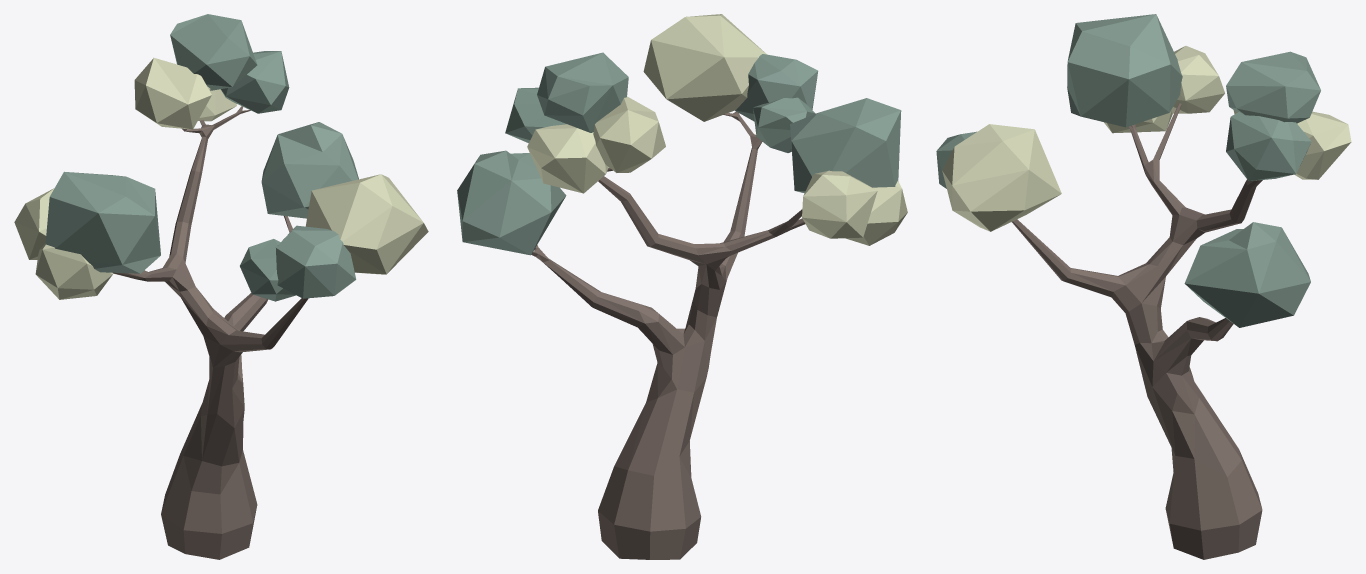
The model's file is low poly tree V1.fbx.
The picture shows the model from 3 angles, left to right: view 1: azimuth 30°, elevation 25°; view 2: azimuth 150°, elevation 25°; view 3: azimuth 270°, elevation 25°; orthographic projection. The views are drawn at different scales.
Visible parts, largest first — view 1: Three stump, Leaves 11, Leaves 2, Leaves 1, Leaves 3, Leaves 7, Leaves 5, Leaves 10, Leaves 4, Leaves 6, Leaves 9, Leaves 8; view 2: Three stump, Leaves 2, Leaves 1, Leaves 11, Leaves 3, Leaves 9, Leaves 8, Leaves 5, Leaves 7, Leaves 6, Leaves 10, Leaves 4; view 3: Three stump, Leaves 11, Leaves 1, Leaves 2, Leaves 3, Leaves 4, Leaves 9, Leaves 8, Leaves 10, Leaves 7.
Part boxes in pixels (x1=…): Three stump: x1=113, y1=106, x2=308, y2=559; Leaves 11: x1=45, y1=171, x2=160, y2=273; Leaves 2: x1=305, y1=174, x2=428, y2=274; Leaves 1: x1=261, y1=122, x2=358, y2=218; Leaves 3: x1=170, y1=14, x2=257, y2=90; Leaves 7: x1=276, y1=225, x2=356, y2=298; Leaves 5: x1=134, y1=58, x2=211, y2=129; Leaves 10: x1=35, y1=243, x2=112, y2=299; Leaves 4: x1=221, y1=51, x2=289, y2=113; Leaves 6: x1=240, y1=239, x2=295, y2=301; Leaves 9: x1=14, y1=188, x2=54, y2=259; Leaves 8: x1=198, y1=89, x2=236, y2=121; Three stump: x1=531, y1=111, x2=805, y2=559; Leaves 2: x1=643, y1=14, x2=766, y2=121; Leaves 1: x1=457, y1=150, x2=566, y2=255; Leaves 11: x1=790, y1=98, x2=901, y2=193; Leaves 3: x1=537, y1=52, x2=628, y2=132; Leaves 9: x1=802, y1=170, x2=877, y2=238; Leaves 8: x1=527, y1=124, x2=608, y2=193; Leaves 5: x1=593, y1=96, x2=665, y2=172; Leaves 7: x1=735, y1=54, x2=818, y2=121; Leaves 6: x1=753, y1=97, x2=815, y2=152; Leaves 10: x1=846, y1=181, x2=907, y2=245; Leaves 4: x1=505, y1=87, x2=566, y2=143; Three stump: x1=1012, y1=103, x2=1262, y2=559; Leaves 11: x1=1067, y1=14, x2=1182, y2=127; Leaves 1: x1=1184, y1=222, x2=1310, y2=327; Leaves 2: x1=942, y1=124, x2=1061, y2=231; Leaves 3: x1=1226, y1=51, x2=1320, y2=123; Leaves 4: x1=1226, y1=112, x2=1311, y2=181; Leaves 9: x1=1171, y1=46, x2=1224, y2=113; Leaves 8: x1=1294, y1=111, x2=1351, y2=179; Leaves 10: x1=1104, y1=110, x2=1172, y2=133; Leaves 7: x1=936, y1=131, x2=976, y2=188.
Bounding box in the file's own units: 846 × 1072 × 795.
